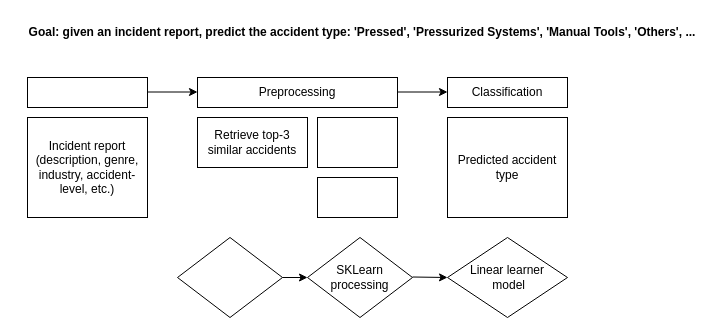
The diagram is 724 pixels wide and 335 high, and some of its shapes have lost their labels. The box of each missing label's shape, as (x1, y1, x2, y2) in pixels:
Features of similar accidents: (316, 116, 398, 168)
Features of this accident: (316, 176, 398, 218)
Input: (26, 76, 148, 108)
Sentence transformer: (176, 236, 282, 318)
